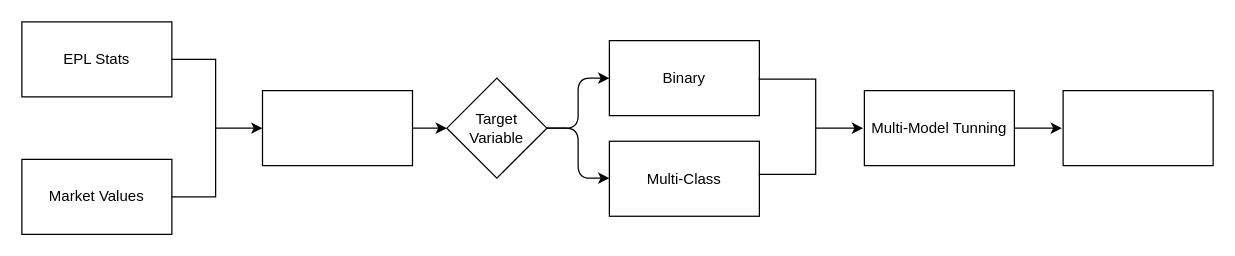
The diagram is 1235 pixels wide and 256 high, and some of its shapes have lost their labels. The centre of each missing label's shape, as x and y in pixels:
"Merged Dataset" goes at [336,127].
"Model Evaluation" goes at [1137,127].
